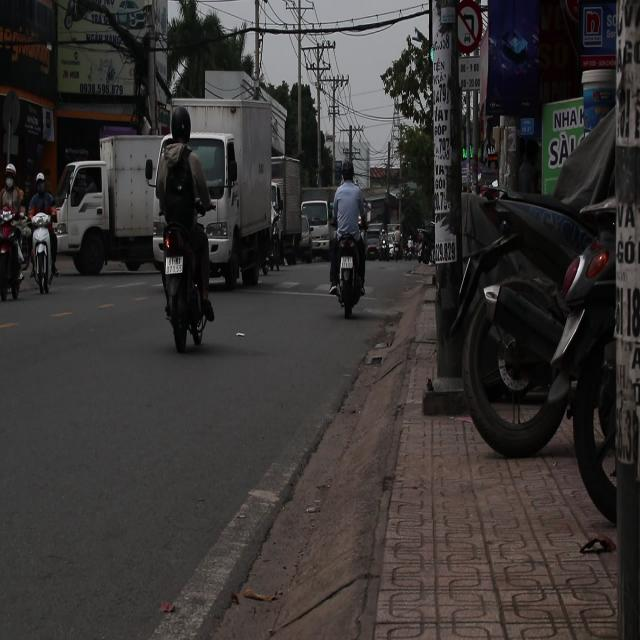motorbike: (148, 143, 217, 364), (322, 215, 372, 331), (24, 212, 60, 298), (1, 206, 28, 302)
truck: (144, 90, 284, 292), (45, 116, 168, 309), (298, 198, 333, 262)
